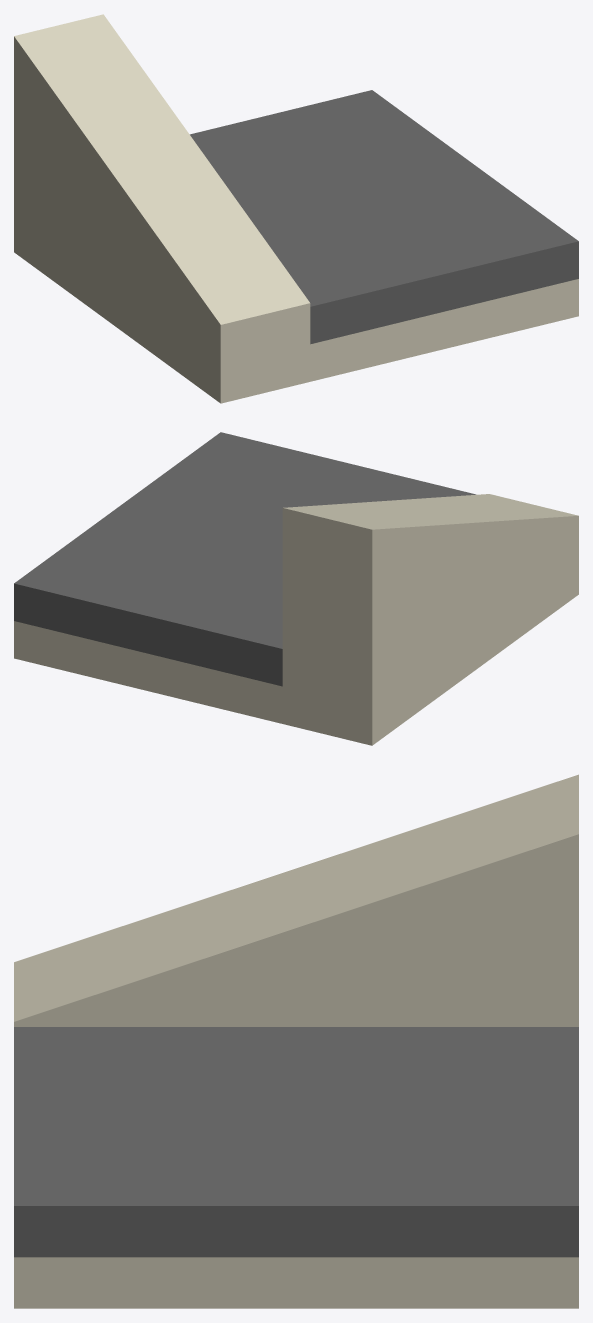
File: tile234.dae
3 views of the same model, one above another, from view 1: azimuth 30°, elevation 25°; view 2: azimuth 150°, elevation 25°; view 3: azimuth 270°, elevation 25° (orthographic). The views are drawn at different scales.
Visible parts, largest first — view 1: tile234; view 2: tile234; view 3: tile234.
Boxes of the visible parts, x1,y1,x2,y2 form: tile234: (14, 14, 578, 403); tile234: (14, 432, 578, 745); tile234: (14, 774, 578, 1308).
Bounding box in the file's own units: 1 × 0.5767 × 1.
